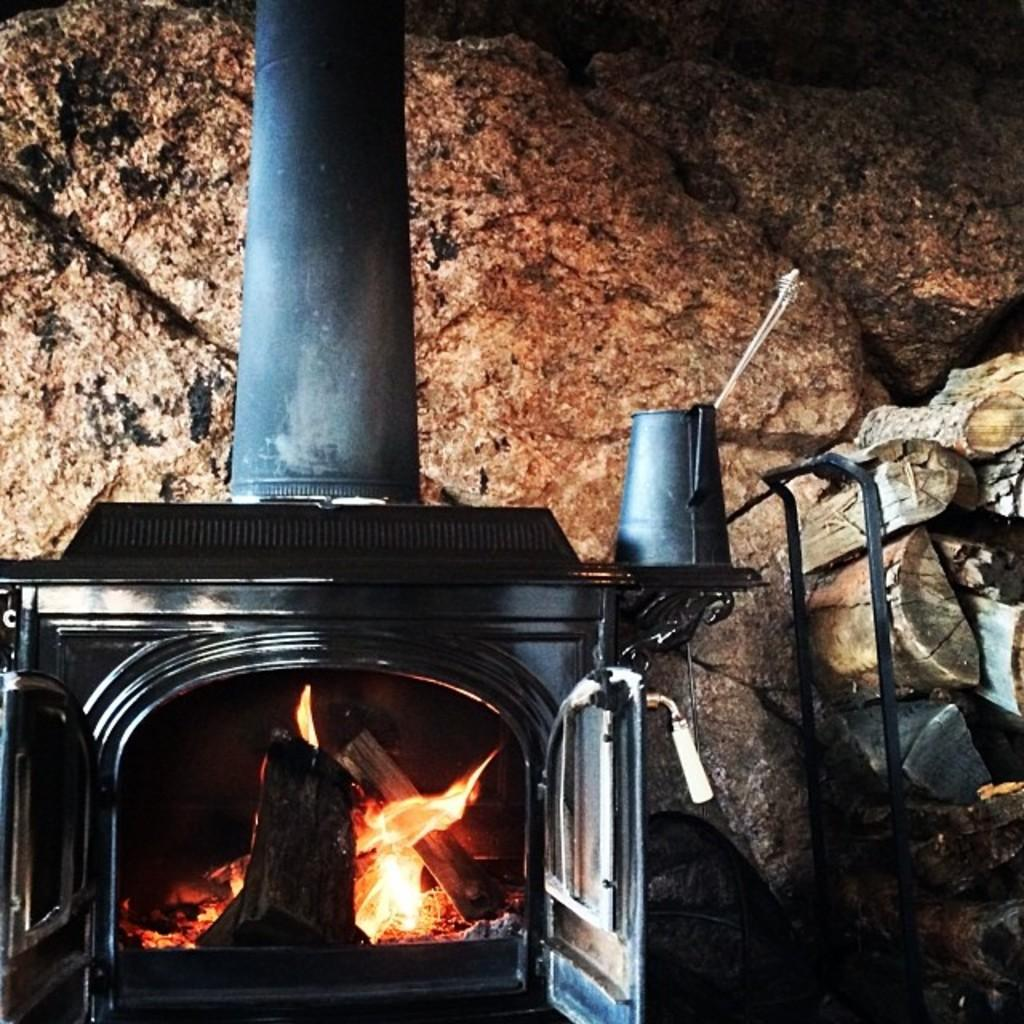Fire: (348, 687, 510, 946), (131, 834, 262, 960)
